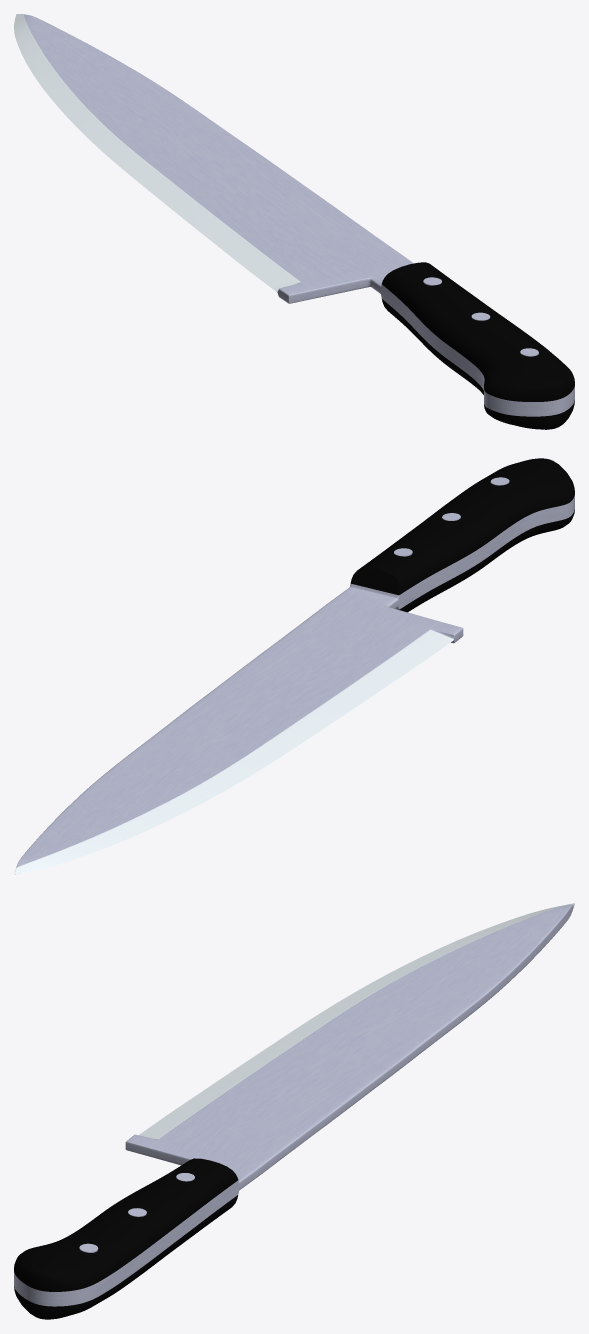
The picture shows the model from 3 angles, top to bottom: view 1: azimuth 30°, elevation 25°; view 2: azimuth 150°, elevation 25°; view 3: azimuth 330°, elevation 25°; orthographic projection.
Visible parts, largest first — view 1: blade_final; view 2: blade_final; view 3: blade_final.
Boxes of the visible parts, left/top/right/bottom form: blade_final: left=14, top=14, right=574, bottom=429; blade_final: left=14, top=458, right=574, bottom=874; blade_final: left=14, top=903, right=574, bottom=1319.
Size of the model in its own units: 0.0595 by 0.0216 by 0.4247.
Materials: 1 (1 with a texture image).
